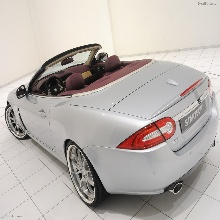no damage: (5, 56, 216, 204)
